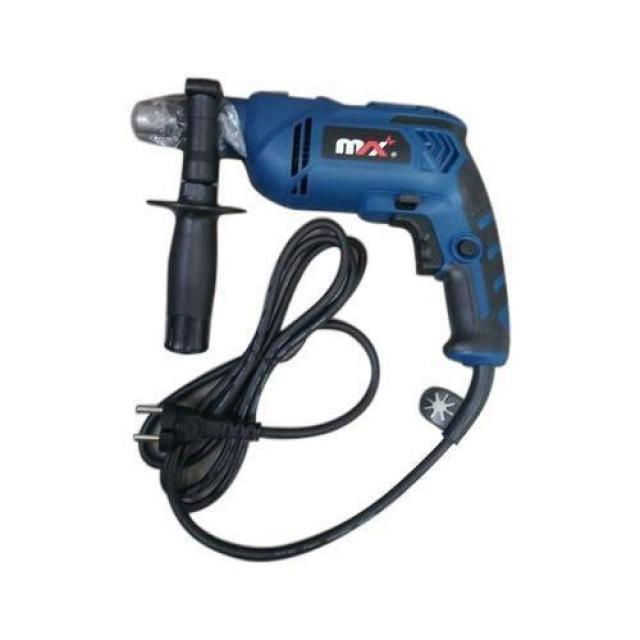drill: (129, 76, 512, 445)
